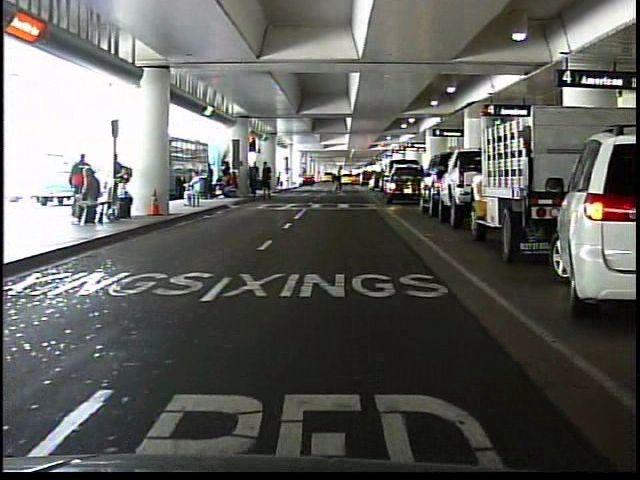person: (180, 171, 206, 208), (327, 162, 348, 195)
